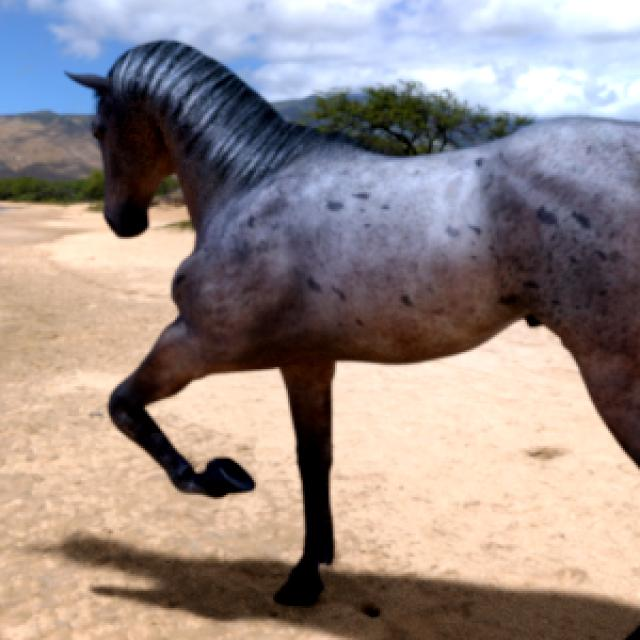horse: (71, 42, 640, 604)
